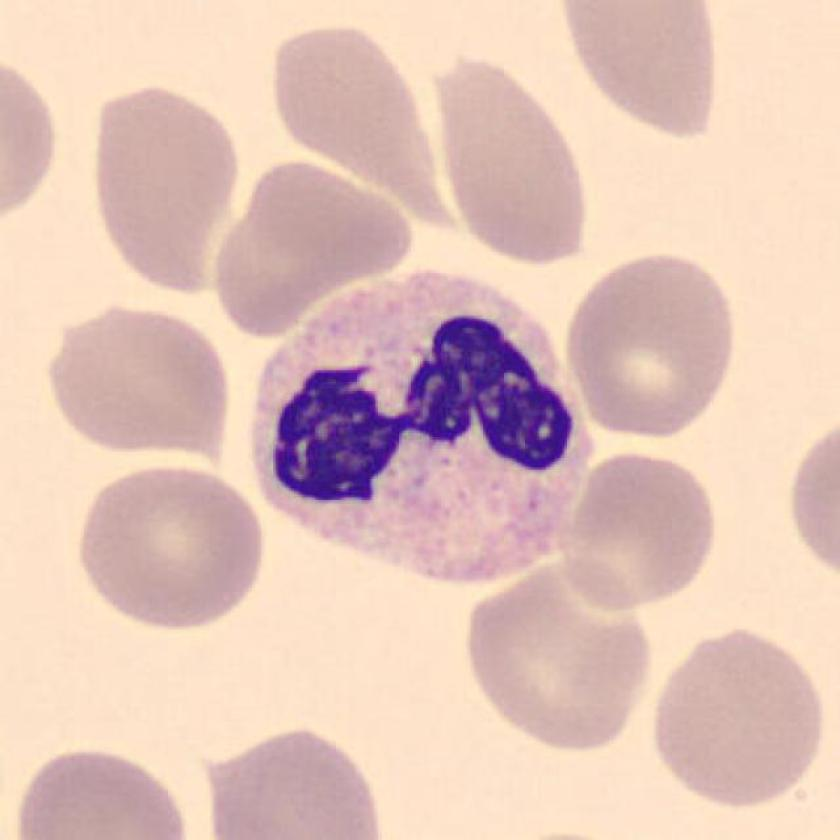neutrophil: (258, 278, 596, 582)
